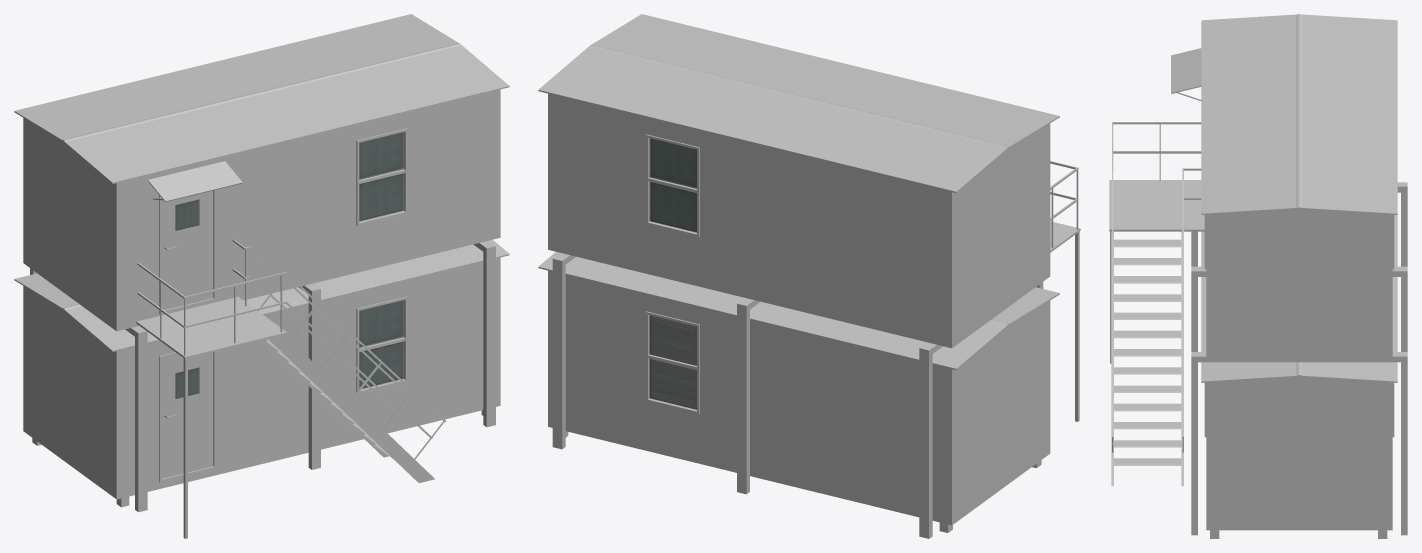
File: office_container_2.fbx
3 views of the same model, side by side, from view 1: azimuth 30°, elevation 25°; view 2: azimuth 150°, elevation 25°; view 3: azimuth 270°, elevation 25° (orthographic). The views are drawn at different scales.
Parts seen in each view (by area): view 1: office_container_2; view 2: office_container_2; view 3: office_container_2.
Boxes of the visible parts, x1,y1,x2,y2 form: office_container_2: (14,14,509,538); office_container_2: (538,14,1080,538); office_container_2: (1109,14,1407,538).
Size of the model in its own units: 422 by 343 by 275.
